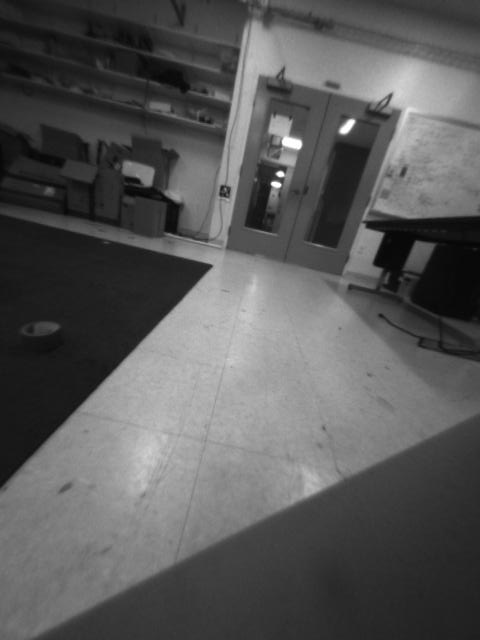dogtoy: (16, 314, 66, 350)
